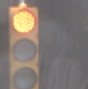Red: (5, 3, 51, 89)
